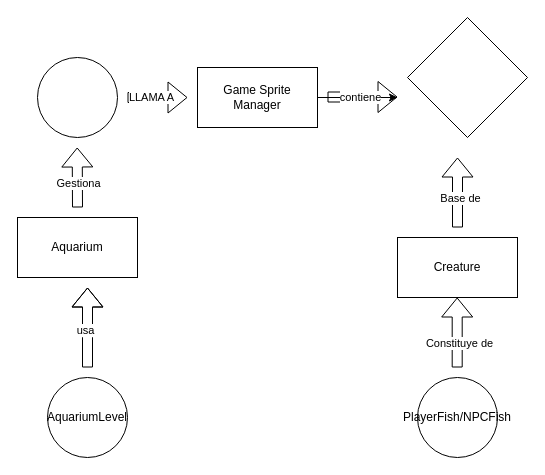
This 545x475 diagram has some shape labels left out. Each missing label, with the centre of its shape:
Game Scene: the point at 77,97
Game Sprite: the point at 467,77
